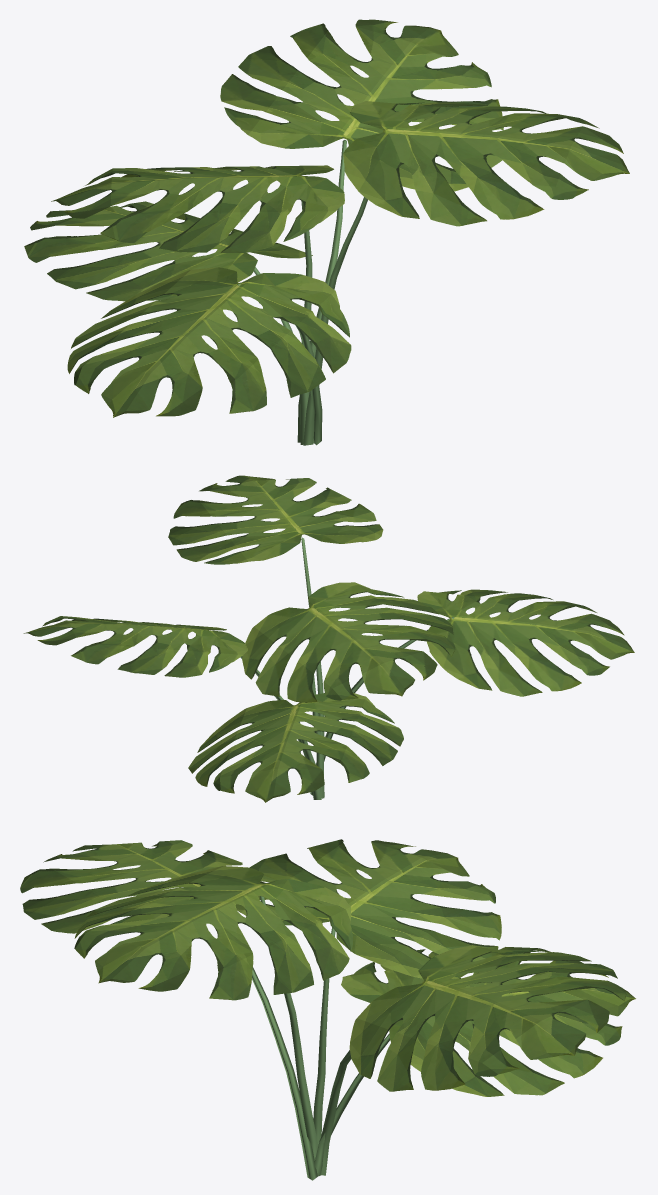
Rendered from Monstera_01.fbx.
The picture shows the model from 3 angles, top to bottom: view 1: azimuth 30°, elevation 25°; view 2: azimuth 150°, elevation 25°; view 3: azimuth 270°, elevation 25°; orthographic projection. The views are drawn at different scales.
Parts seen in each view (by area): view 1: Monstera_01; view 2: Monstera_01; view 3: Monstera_01.
Boxes of the visible parts, x1=… form: Monstera_01: x1=24, y1=19, x2=629, y2=445; Monstera_01: x1=23, y1=475, x2=634, y2=802; Monstera_01: x1=20, y1=839, x2=635, y2=1180.
Bounding box in the file's own units: 116 × 109 × 60.45.
2 materials, 1 textured.
